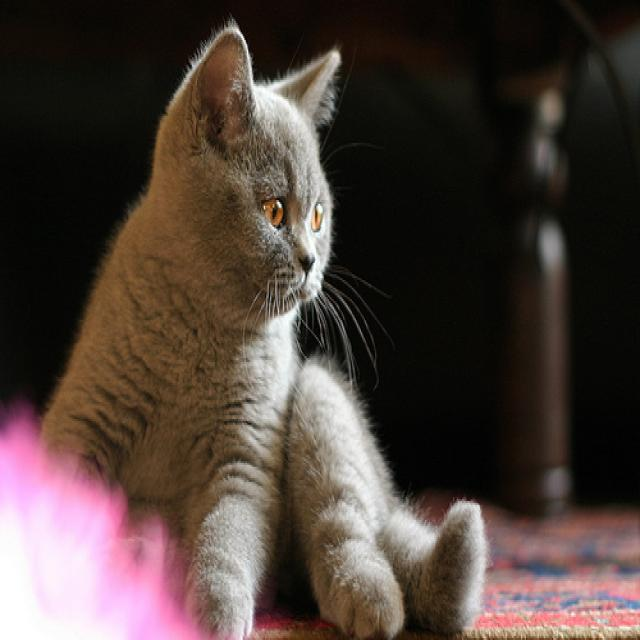cat: (163, 23, 339, 314)
